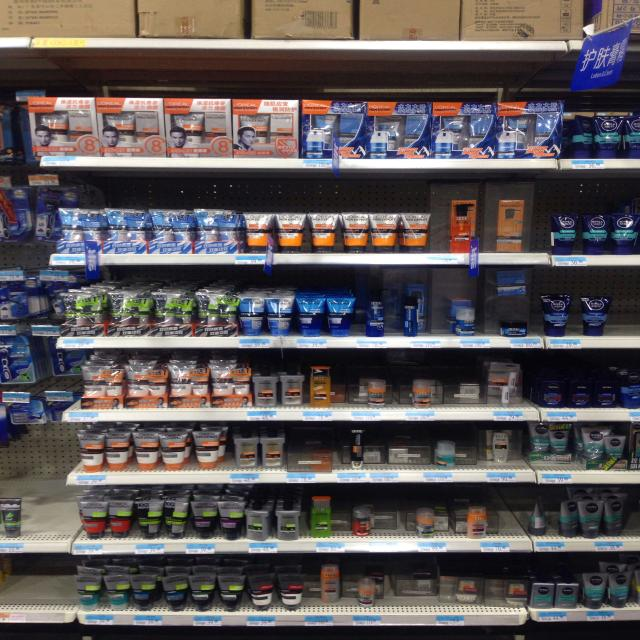void: (0, 559, 35, 625), (378, 493, 413, 553), (40, 558, 69, 624), (23, 481, 48, 554), (494, 498, 527, 551), (48, 486, 71, 554), (336, 363, 360, 419), (427, 284, 446, 346), (462, 431, 485, 482), (620, 289, 638, 348)
